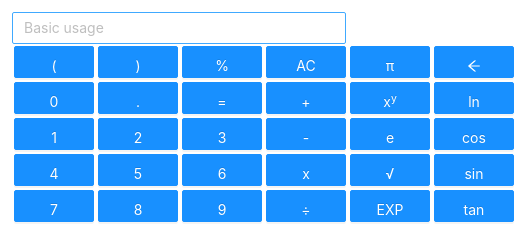
Scenario: Basic Calculator Test › Calculator Calculate function › Addition Functionality › Simple addition calculation with double digits
Click the button named "one-button" at (54, 134), box 14,118 -> 94,150
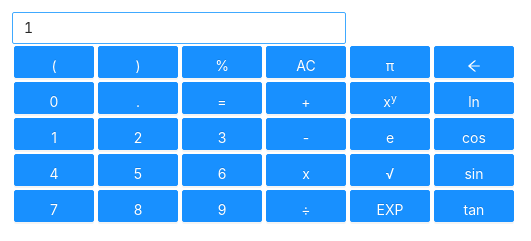
Click the button named "two-button" at (138, 134), box 98,118 -> 178,150
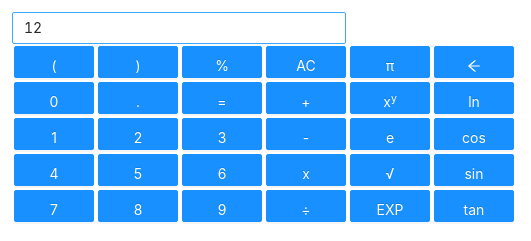
Click the button named "plus-button" at (306, 98), box 266,82 -> 346,114
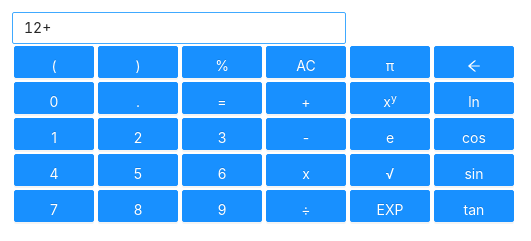
Click the button named "two-button" at (138, 134), box 98,118 -> 178,150
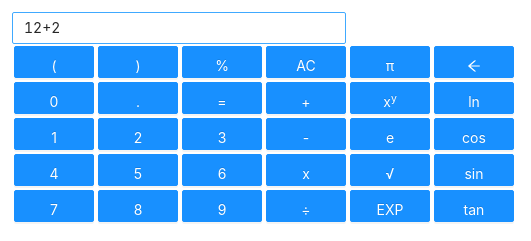
Click the button named "zero-button" at (54, 98), box 14,82 -> 94,114
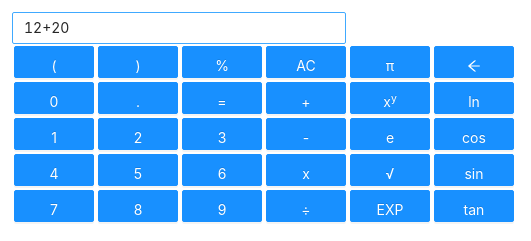
Click the button named "equals-button" at (222, 98), box 182,82 -> 262,114
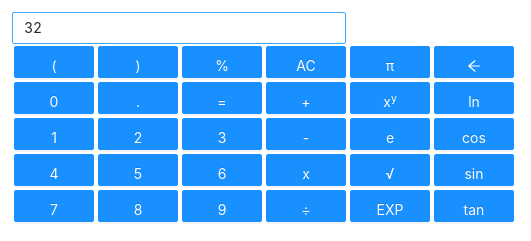
Check: the field named "basic-calculator-display" holds "32", box 12,12 -> 346,44
